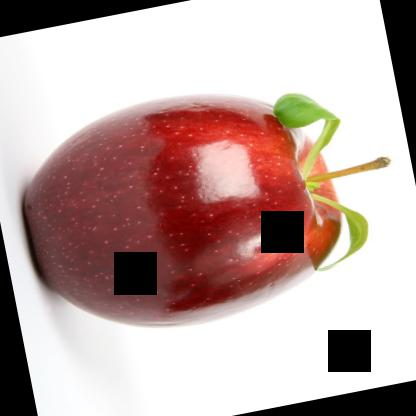apple: (0, 54, 412, 354)
